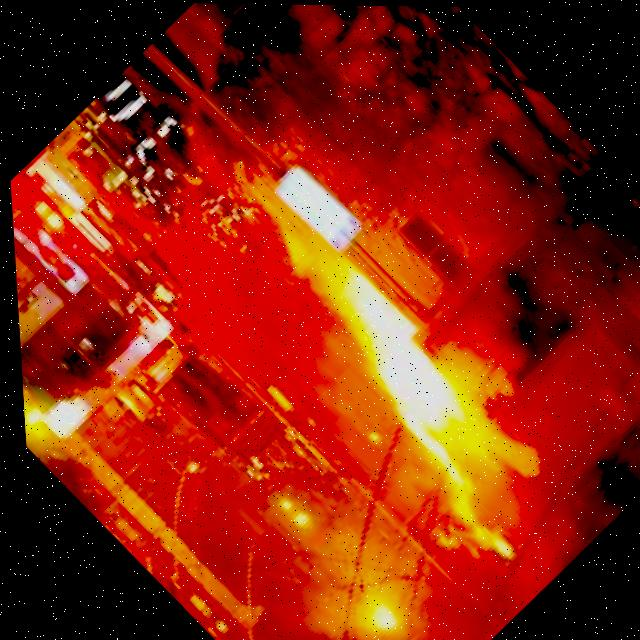Fire: (212, 180, 575, 539)
Smoke: (367, 259, 628, 512)
